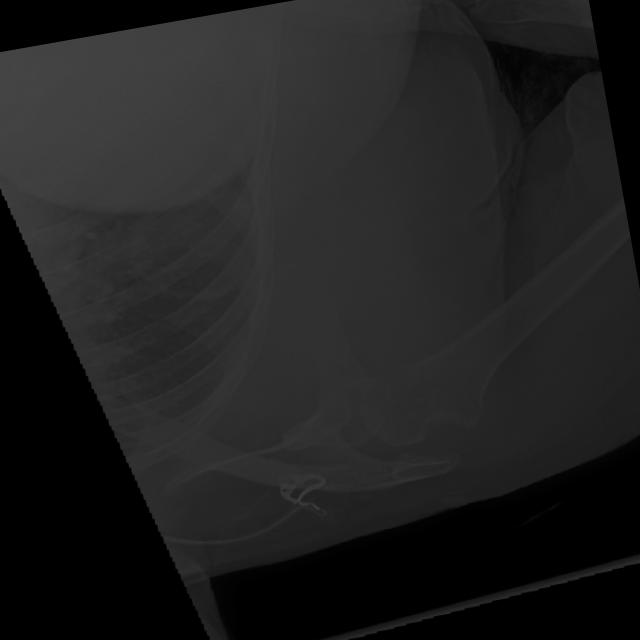shoulder fracture: (388, 395, 500, 459)
